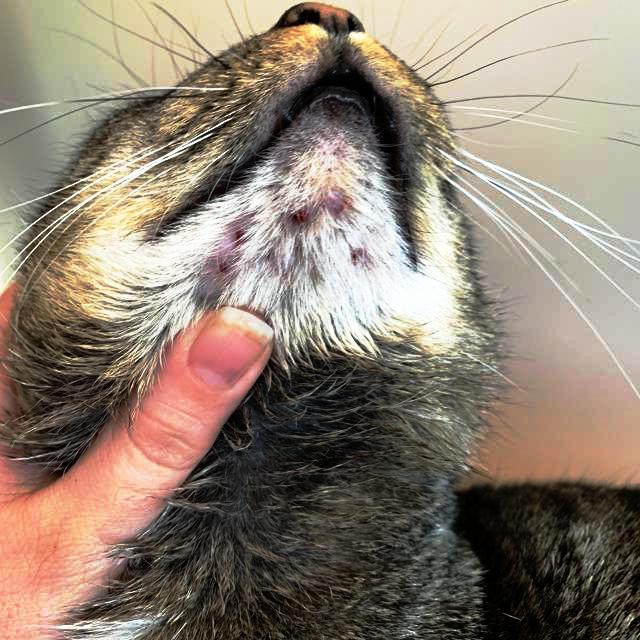acne: (220, 192, 378, 302)
